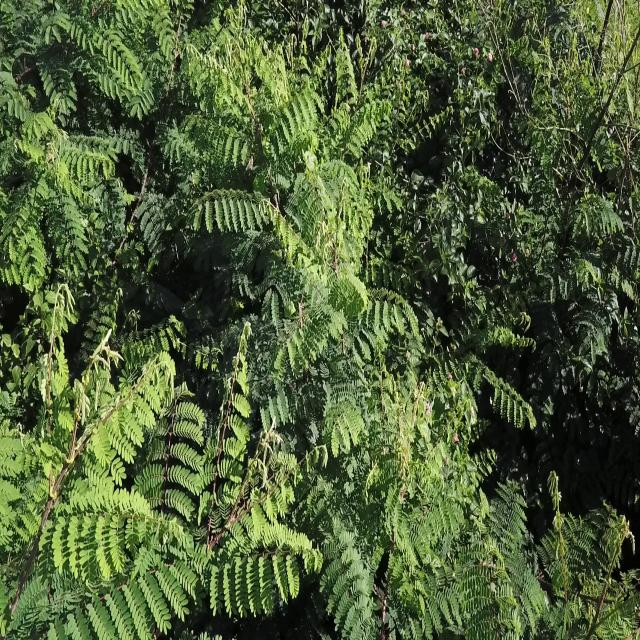Mysore-Thorn-Weed: (163, 22, 379, 319), (0, 333, 187, 640), (330, 326, 491, 640), (0, 0, 152, 282), (191, 356, 325, 616), (490, 468, 633, 640)
